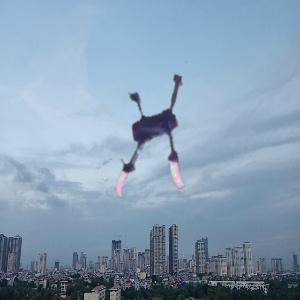drone: (91, 72, 229, 210)
